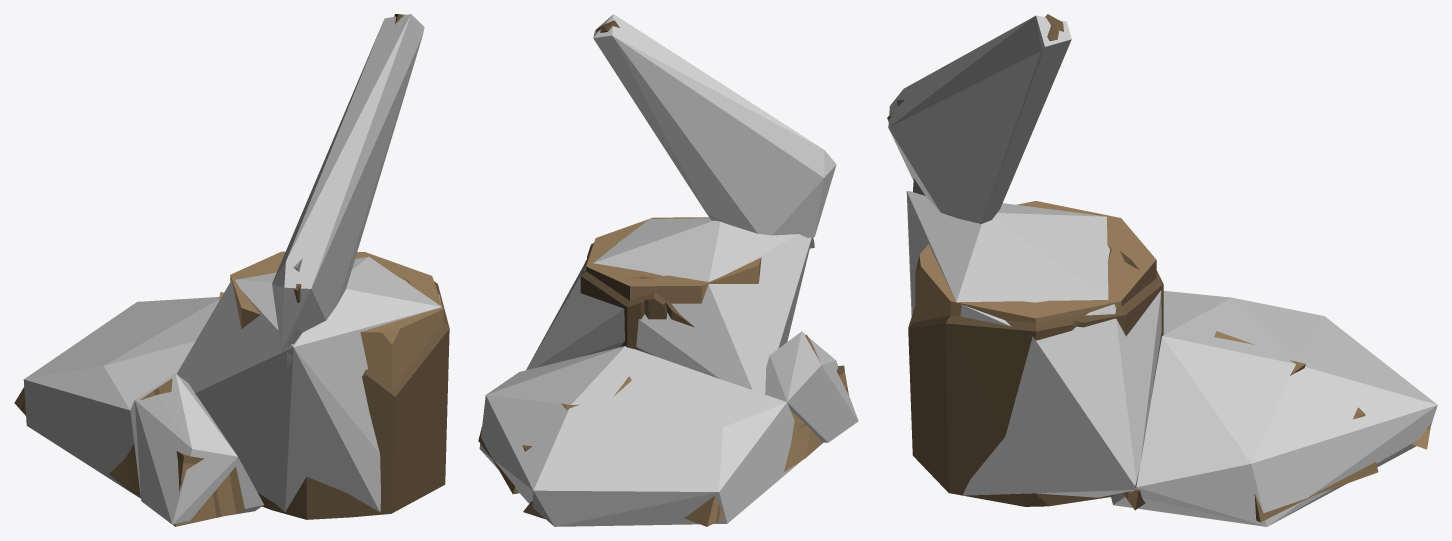
File: SM_Prop_LogPile_01.fbx
The picture shows the model from 3 angles, left to right: view 1: azimuth 30°, elevation 25°; view 2: azimuth 150°, elevation 25°; view 3: azimuth 270°, elevation 25°; orthographic projection. The views are drawn at different scales.
Visible parts, largest first — view 1: SM_Prop_LogPile_01_ConvexHulls, SM_Prop_LogPile_01; view 2: SM_Prop_LogPile_01_ConvexHulls, SM_Prop_LogPile_01; view 3: SM_Prop_LogPile_01_ConvexHulls, SM_Prop_LogPile_01.
Part boxes in pixels (x1=…): SM_Prop_LogPile_01_ConvexHulls: x1=23, y1=14, x2=441, y2=524; SM_Prop_LogPile_01: x1=14, y1=14, x2=449, y2=526; SM_Prop_LogPile_01_ConvexHulls: x1=479, y1=14, x2=858, y2=526; SM_Prop_LogPile_01: x1=478, y1=20, x2=848, y2=526; SM_Prop_LogPile_01_ConvexHulls: x1=888, y1=15, x2=1437, y2=526; SM_Prop_LogPile_01: x1=887, y1=14, x2=1431, y2=522.
Bounding box in the file's own units: 98.31 × 131 × 131.
2 materials, 1 textured.
